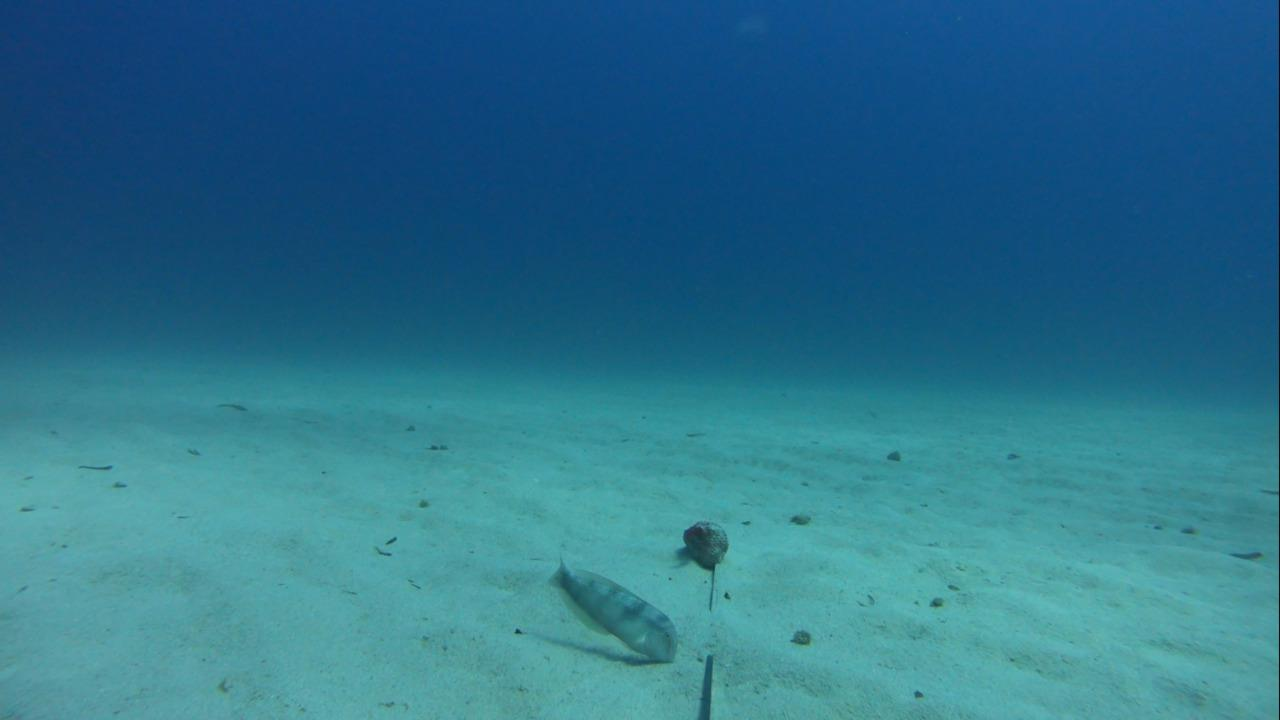raor: (539, 551, 684, 667)
